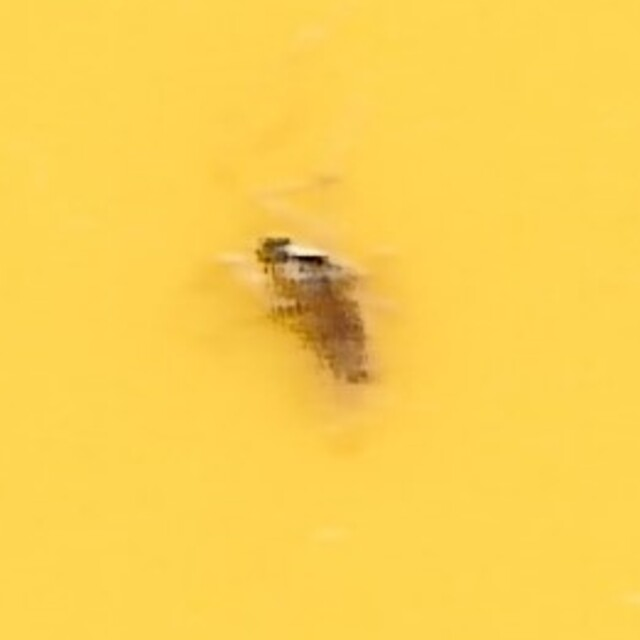Nematocera: (245, 225, 395, 415)
